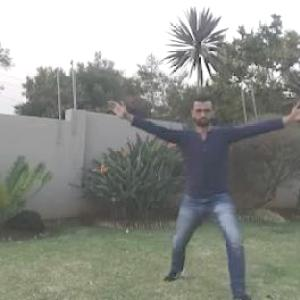takeoff: (108, 98, 299, 275)
